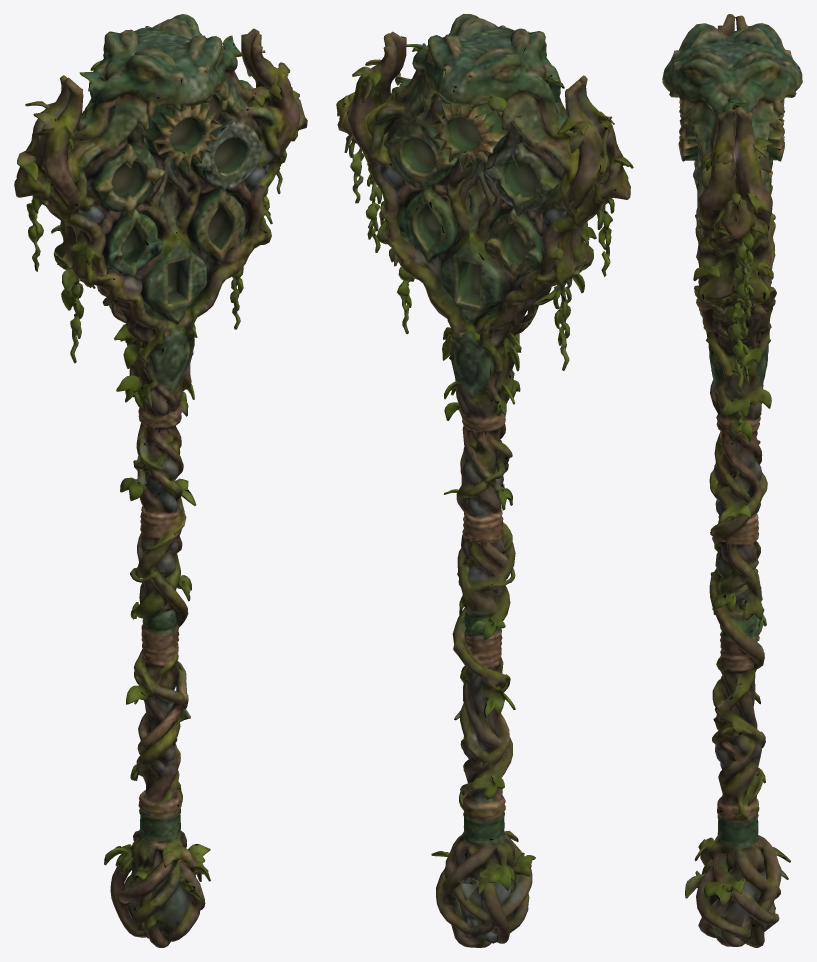
File: sceptre-hero.glb
3 views of the same model, side by side, from view 1: azimuth 30°, elevation 25°; view 2: azimuth 150°, elevation 25°; view 3: azimuth 270°, elevation 25° (orthographic).
Visible parts, largest first — view 1: Model; view 2: Model; view 3: Model.
Boxes of the visible parts, left/top/right/bottom form: Model: left=14, top=14, right=307, bottom=947; Model: left=336, top=14, right=633, bottom=947; Model: left=662, top=14, right=802, bottom=947.
Bounding box in the file's own units: 0.6343 × 1.9 × 0.2684.
1 material, 1 textured.
